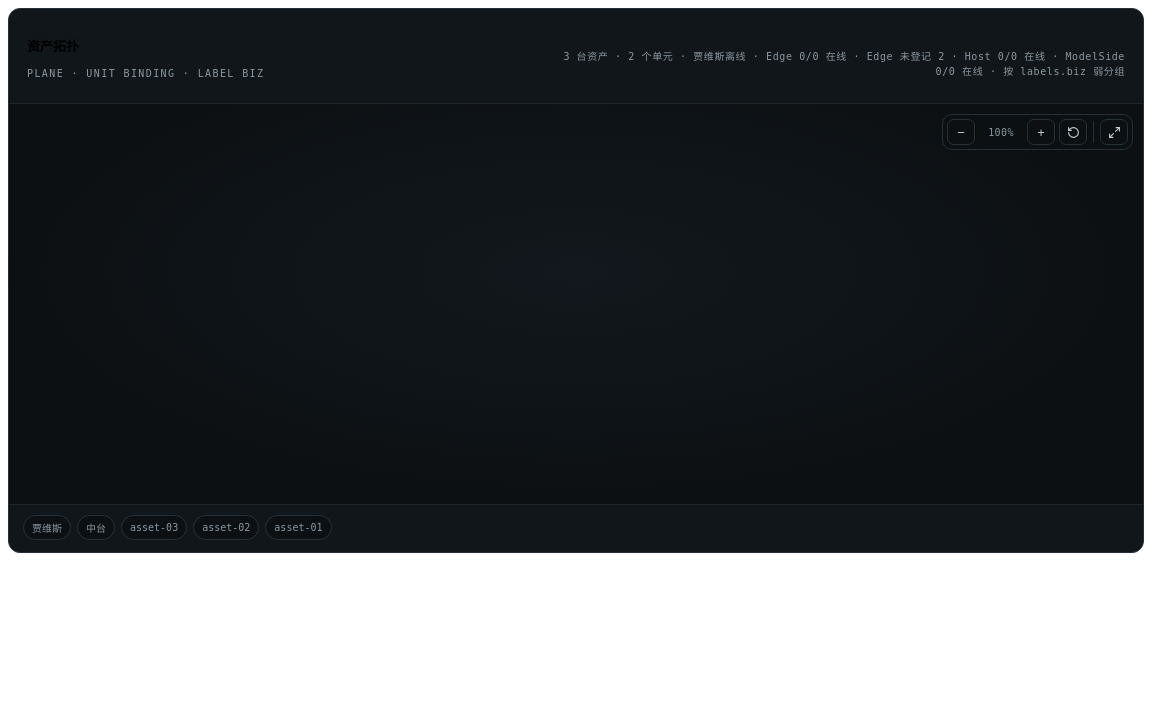
Test: AssetEstateMap › 选中资产时展示图例外形名
Click the button with aria-label "选中资产 mall-gateway": (226, 528) [193, 515, 259, 540]
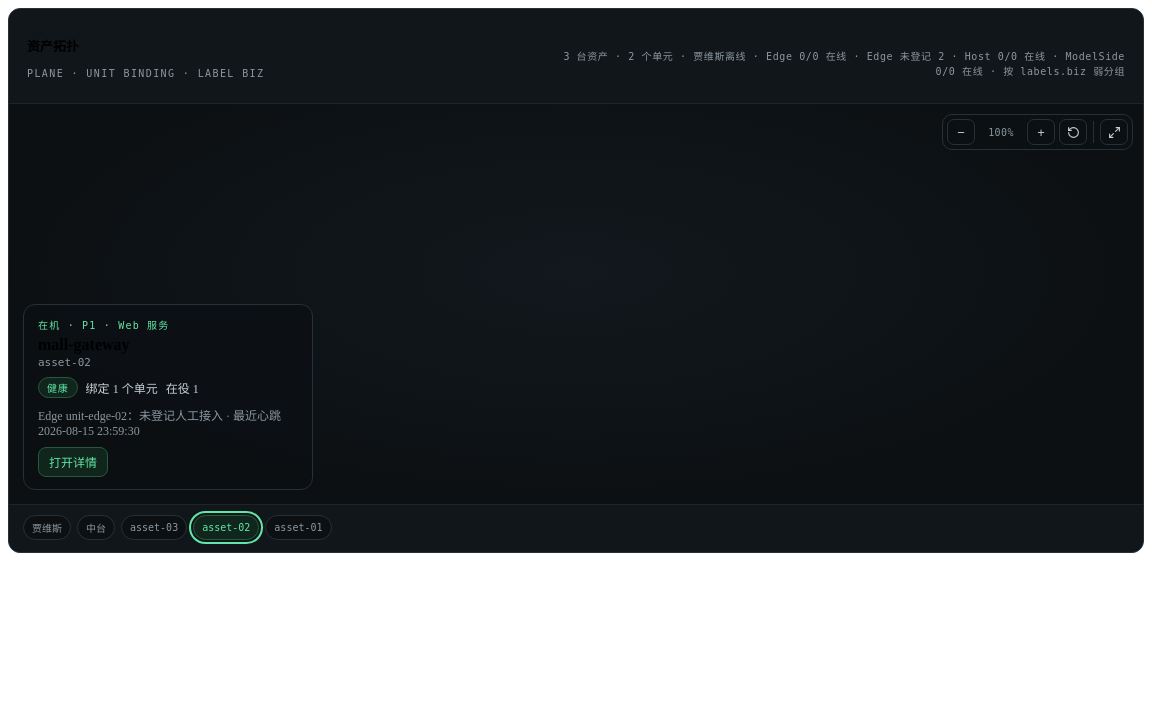
Expected: the text "在机 · P1 · Web 服务" is shown, [38, 320, 170, 331]
